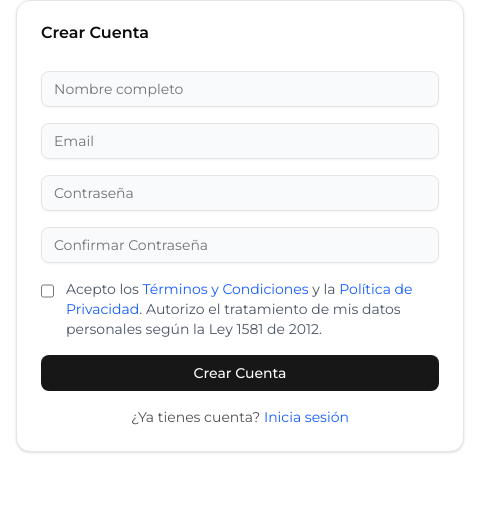
Test: RegisterPage › should show validation error for missing consent
The image size is (481, 526).
Fill out form without checking consent
Type "Test User" into the field with placeholder "Nombre completo". click: (240, 89)
box: [41, 71, 439, 107]
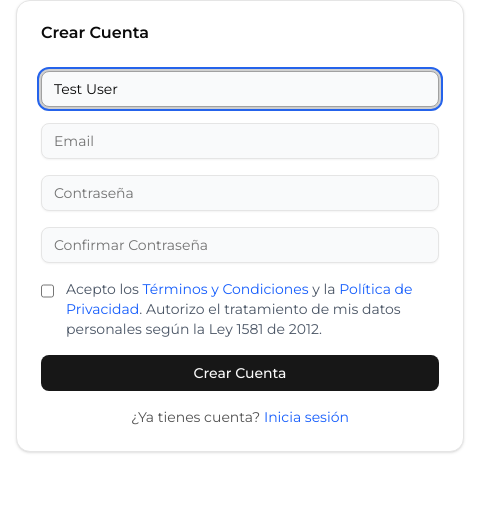
Type "test@example.com" into the field with placeholder "Email". click: (240, 141)
box: [41, 123, 439, 159]
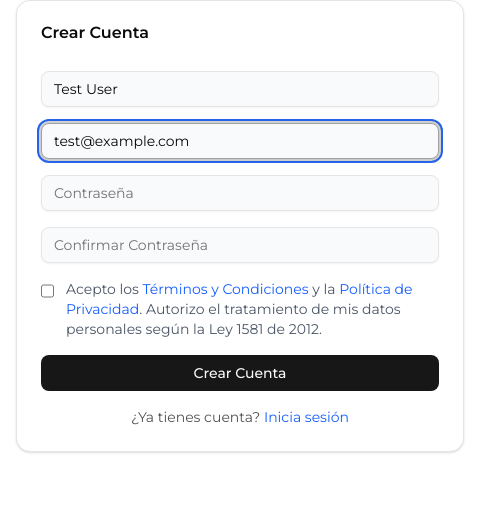
Type "password123" into the password field with placeholder "Contraseña". click: (240, 193)
box: [41, 175, 439, 211]
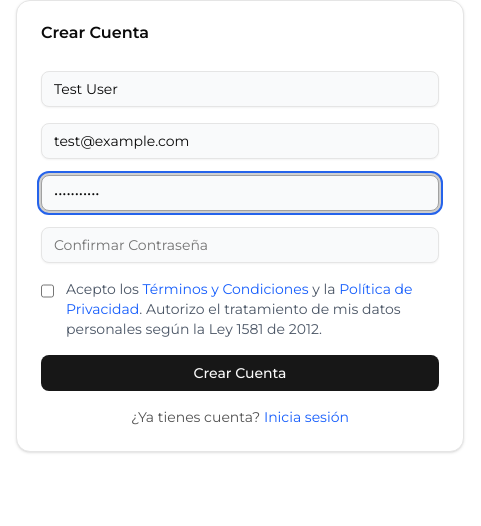
Type "password123" into the password field with placeholder "Confirmar Contraseña". click: (240, 245)
box: [41, 227, 439, 263]
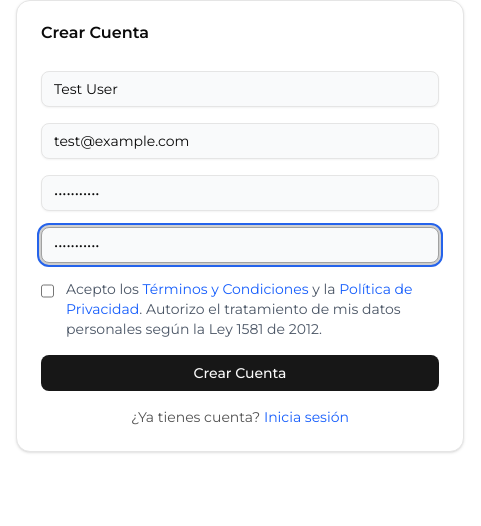
Click the button "Crear Cuenta". click: click(240, 373)
box: [41, 355, 439, 391]
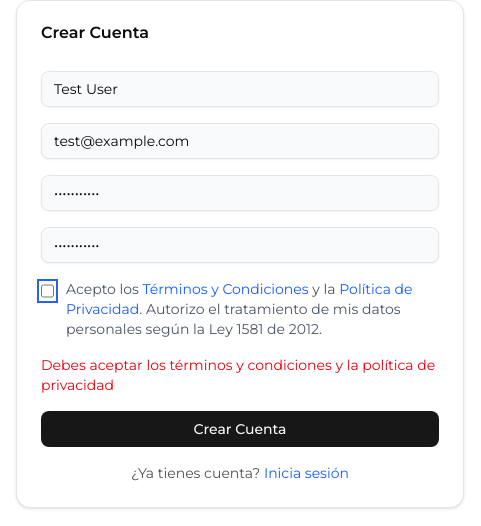
Now the text "Debes aceptar los términos y condiciones y la política de privacidad" is shown, box [41, 355, 439, 395]
